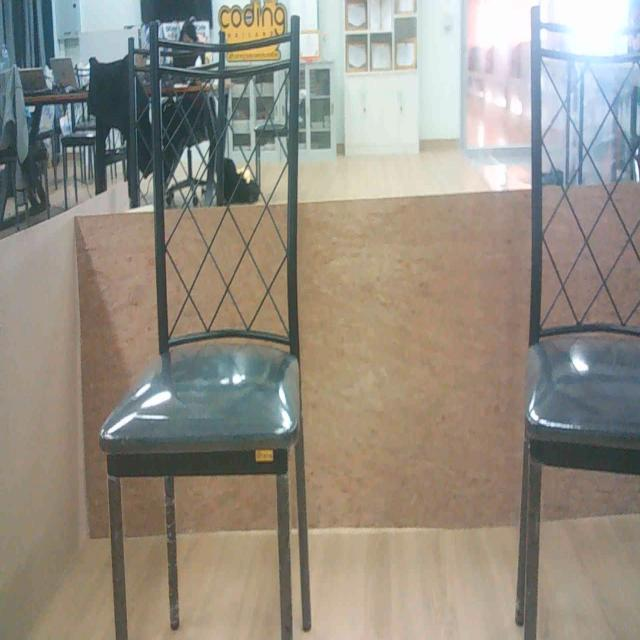emtpy: (92, 20, 308, 640), (532, 6, 639, 640)
